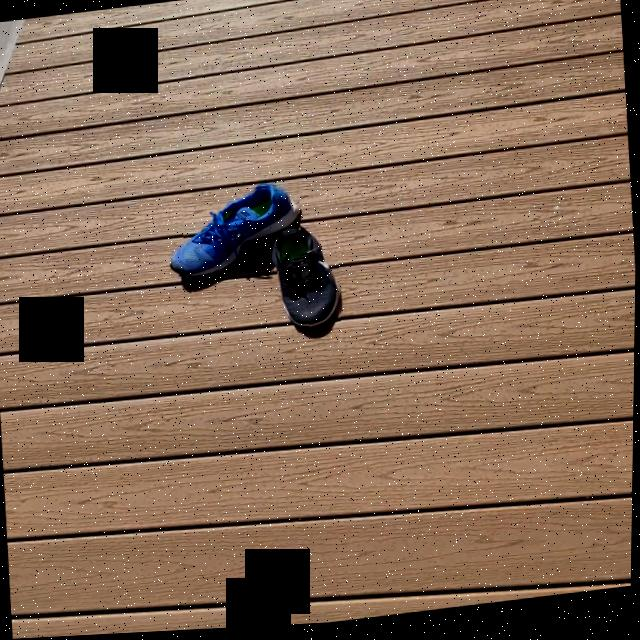shoe: (169, 191, 301, 277), (274, 233, 341, 335)
